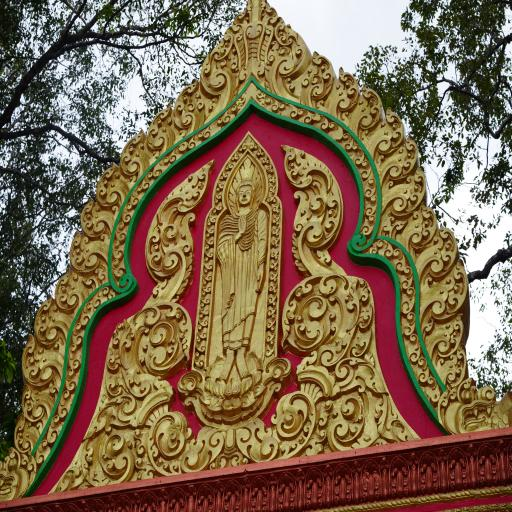la: (200, 0, 310, 99), (276, 138, 352, 276), (76, 380, 179, 481), (150, 155, 216, 305), (282, 279, 379, 373), (320, 359, 412, 451), (107, 302, 198, 378), (238, 394, 318, 464), (147, 412, 222, 473), (420, 260, 469, 330), (382, 165, 428, 234), (414, 220, 458, 290), (16, 331, 66, 392), (298, 44, 339, 111), (396, 196, 437, 259), (423, 310, 468, 366), (379, 136, 421, 192), (30, 295, 74, 348), (354, 76, 385, 148), (175, 78, 208, 142), (63, 232, 112, 275), (146, 94, 177, 160), (374, 96, 403, 165), (16, 377, 56, 427), (92, 160, 130, 210), (54, 269, 95, 315), (434, 342, 470, 393), (0, 446, 31, 504), (330, 59, 357, 125), (80, 195, 116, 242), (120, 131, 150, 186), (11, 412, 42, 457), (209, 450, 252, 470), (417, 353, 432, 388), (34, 438, 52, 466), (57, 390, 73, 419), (67, 343, 83, 372), (204, 117, 223, 141), (46, 416, 62, 444), (313, 106, 329, 133), (344, 128, 359, 156), (328, 119, 344, 145), (280, 100, 298, 123), (92, 287, 110, 310), (428, 374, 440, 408), (401, 287, 415, 316), (78, 302, 96, 324), (401, 264, 414, 294), (408, 334, 421, 364), (71, 322, 86, 348), (170, 142, 190, 161), (111, 258, 128, 280), (154, 156, 170, 179), (403, 311, 416, 339), (64, 366, 78, 392), (377, 236, 393, 258), (393, 246, 406, 272), (138, 170, 155, 189), (362, 215, 376, 238), (223, 104, 236, 128), (265, 94, 279, 116), (361, 158, 373, 183), (112, 236, 124, 261), (130, 186, 145, 206), (188, 131, 203, 151), (300, 104, 312, 128), (365, 177, 377, 200), (366, 196, 378, 219), (354, 142, 365, 166), (122, 204, 135, 224), (117, 222, 127, 244), (195, 335, 206, 354), (194, 351, 205, 370), (242, 134, 254, 151), (268, 289, 279, 307), (198, 301, 211, 316), (200, 290, 212, 306), (266, 313, 278, 329), (272, 208, 282, 226), (202, 267, 213, 283), (205, 219, 215, 236), (266, 327, 276, 344), (212, 198, 224, 212), (198, 314, 210, 328), (209, 206, 217, 226), (269, 266, 279, 282), (197, 324, 207, 340), (271, 222, 282, 236), (203, 257, 214, 271), (204, 231, 214, 246), (205, 245, 215, 260), (202, 279, 212, 294), (268, 302, 278, 317), (266, 340, 275, 356), (267, 189, 277, 203), (271, 234, 281, 247), (270, 244, 279, 258), (214, 187, 224, 199), (268, 180, 278, 192), (269, 277, 277, 292), (259, 151, 268, 164), (217, 176, 225, 190), (272, 198, 280, 212), (270, 256, 278, 270), (222, 166, 230, 179), (228, 158, 236, 170), (370, 243, 378, 255), (236, 147, 243, 160), (254, 144, 261, 157), (268, 169, 275, 182), (266, 159, 272, 172)
lua: (466, 442, 500, 490), (436, 446, 470, 494), (408, 447, 440, 498), (379, 456, 411, 502), (294, 466, 326, 512), (323, 462, 352, 512), (351, 459, 381, 505), (268, 470, 296, 512), (240, 474, 270, 512), (237, 80, 266, 115), (214, 477, 242, 512), (185, 481, 216, 512), (495, 440, 512, 488), (158, 483, 186, 512), (103, 490, 133, 512), (133, 488, 158, 512), (79, 495, 105, 512), (54, 498, 80, 512), (29, 504, 53, 512)
than: (216, 156, 266, 389)
